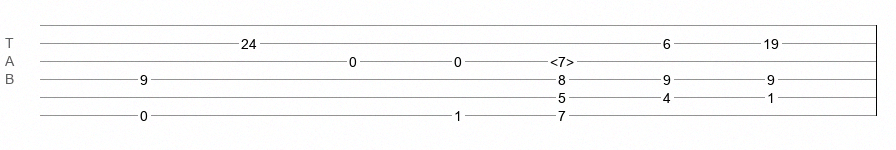0: (140, 108, 148, 118), (349, 54, 357, 64), (454, 54, 462, 64)
1: (454, 108, 462, 118), (767, 90, 775, 100)
19: (763, 36, 779, 46)
24: (241, 36, 257, 46)
4: (663, 90, 671, 100)
5: (558, 90, 566, 100)
6: (663, 36, 671, 46)
7: (558, 108, 566, 118)
8: (558, 72, 566, 82)
9: (140, 72, 148, 82), (663, 72, 671, 82), (767, 72, 775, 82)
harmonic: (550, 54, 574, 64)
